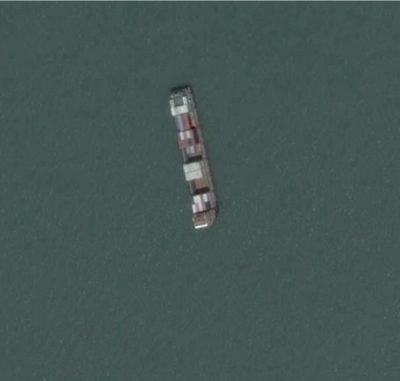boat: (168, 84, 220, 231)
